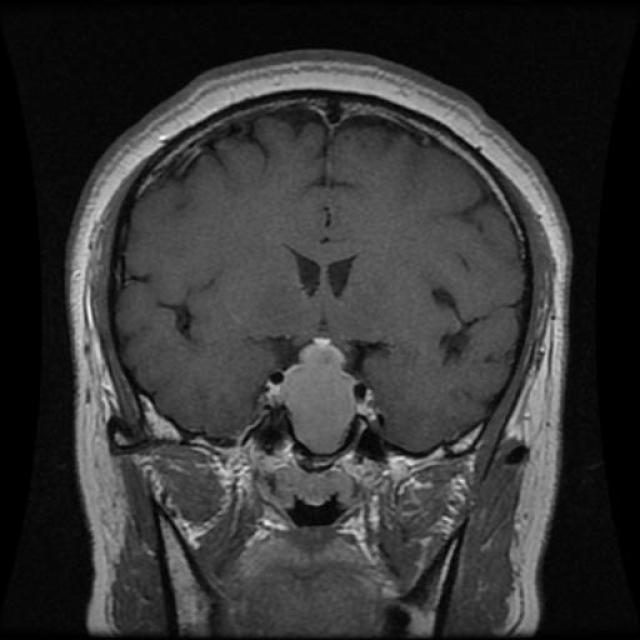pituitary: (254, 327, 384, 460)
